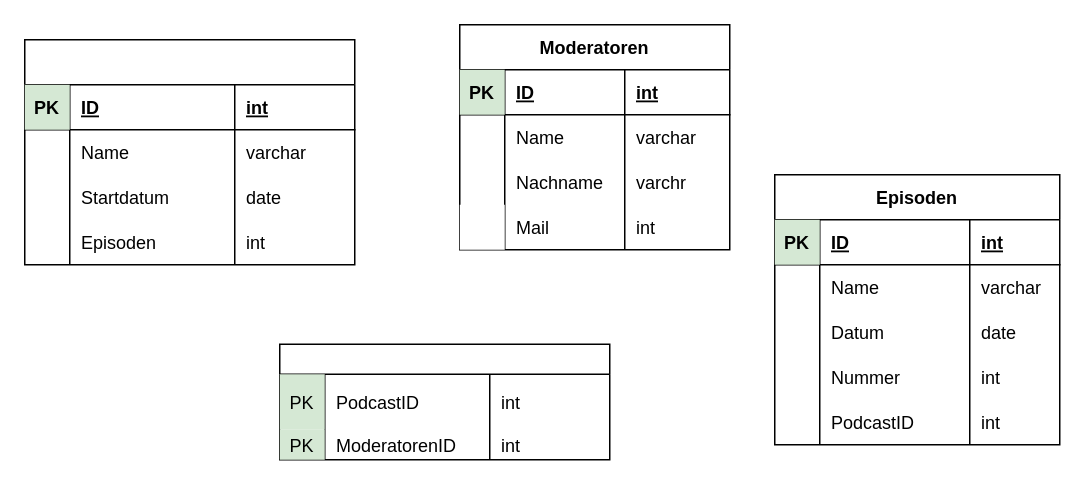
This 1085x485 diagram has some shape labels left out. Each missing label, with the box of its shape:
Podcast: (23, 38, 355, 265)
PodcastModeratoren: (278, 343, 610, 460)
